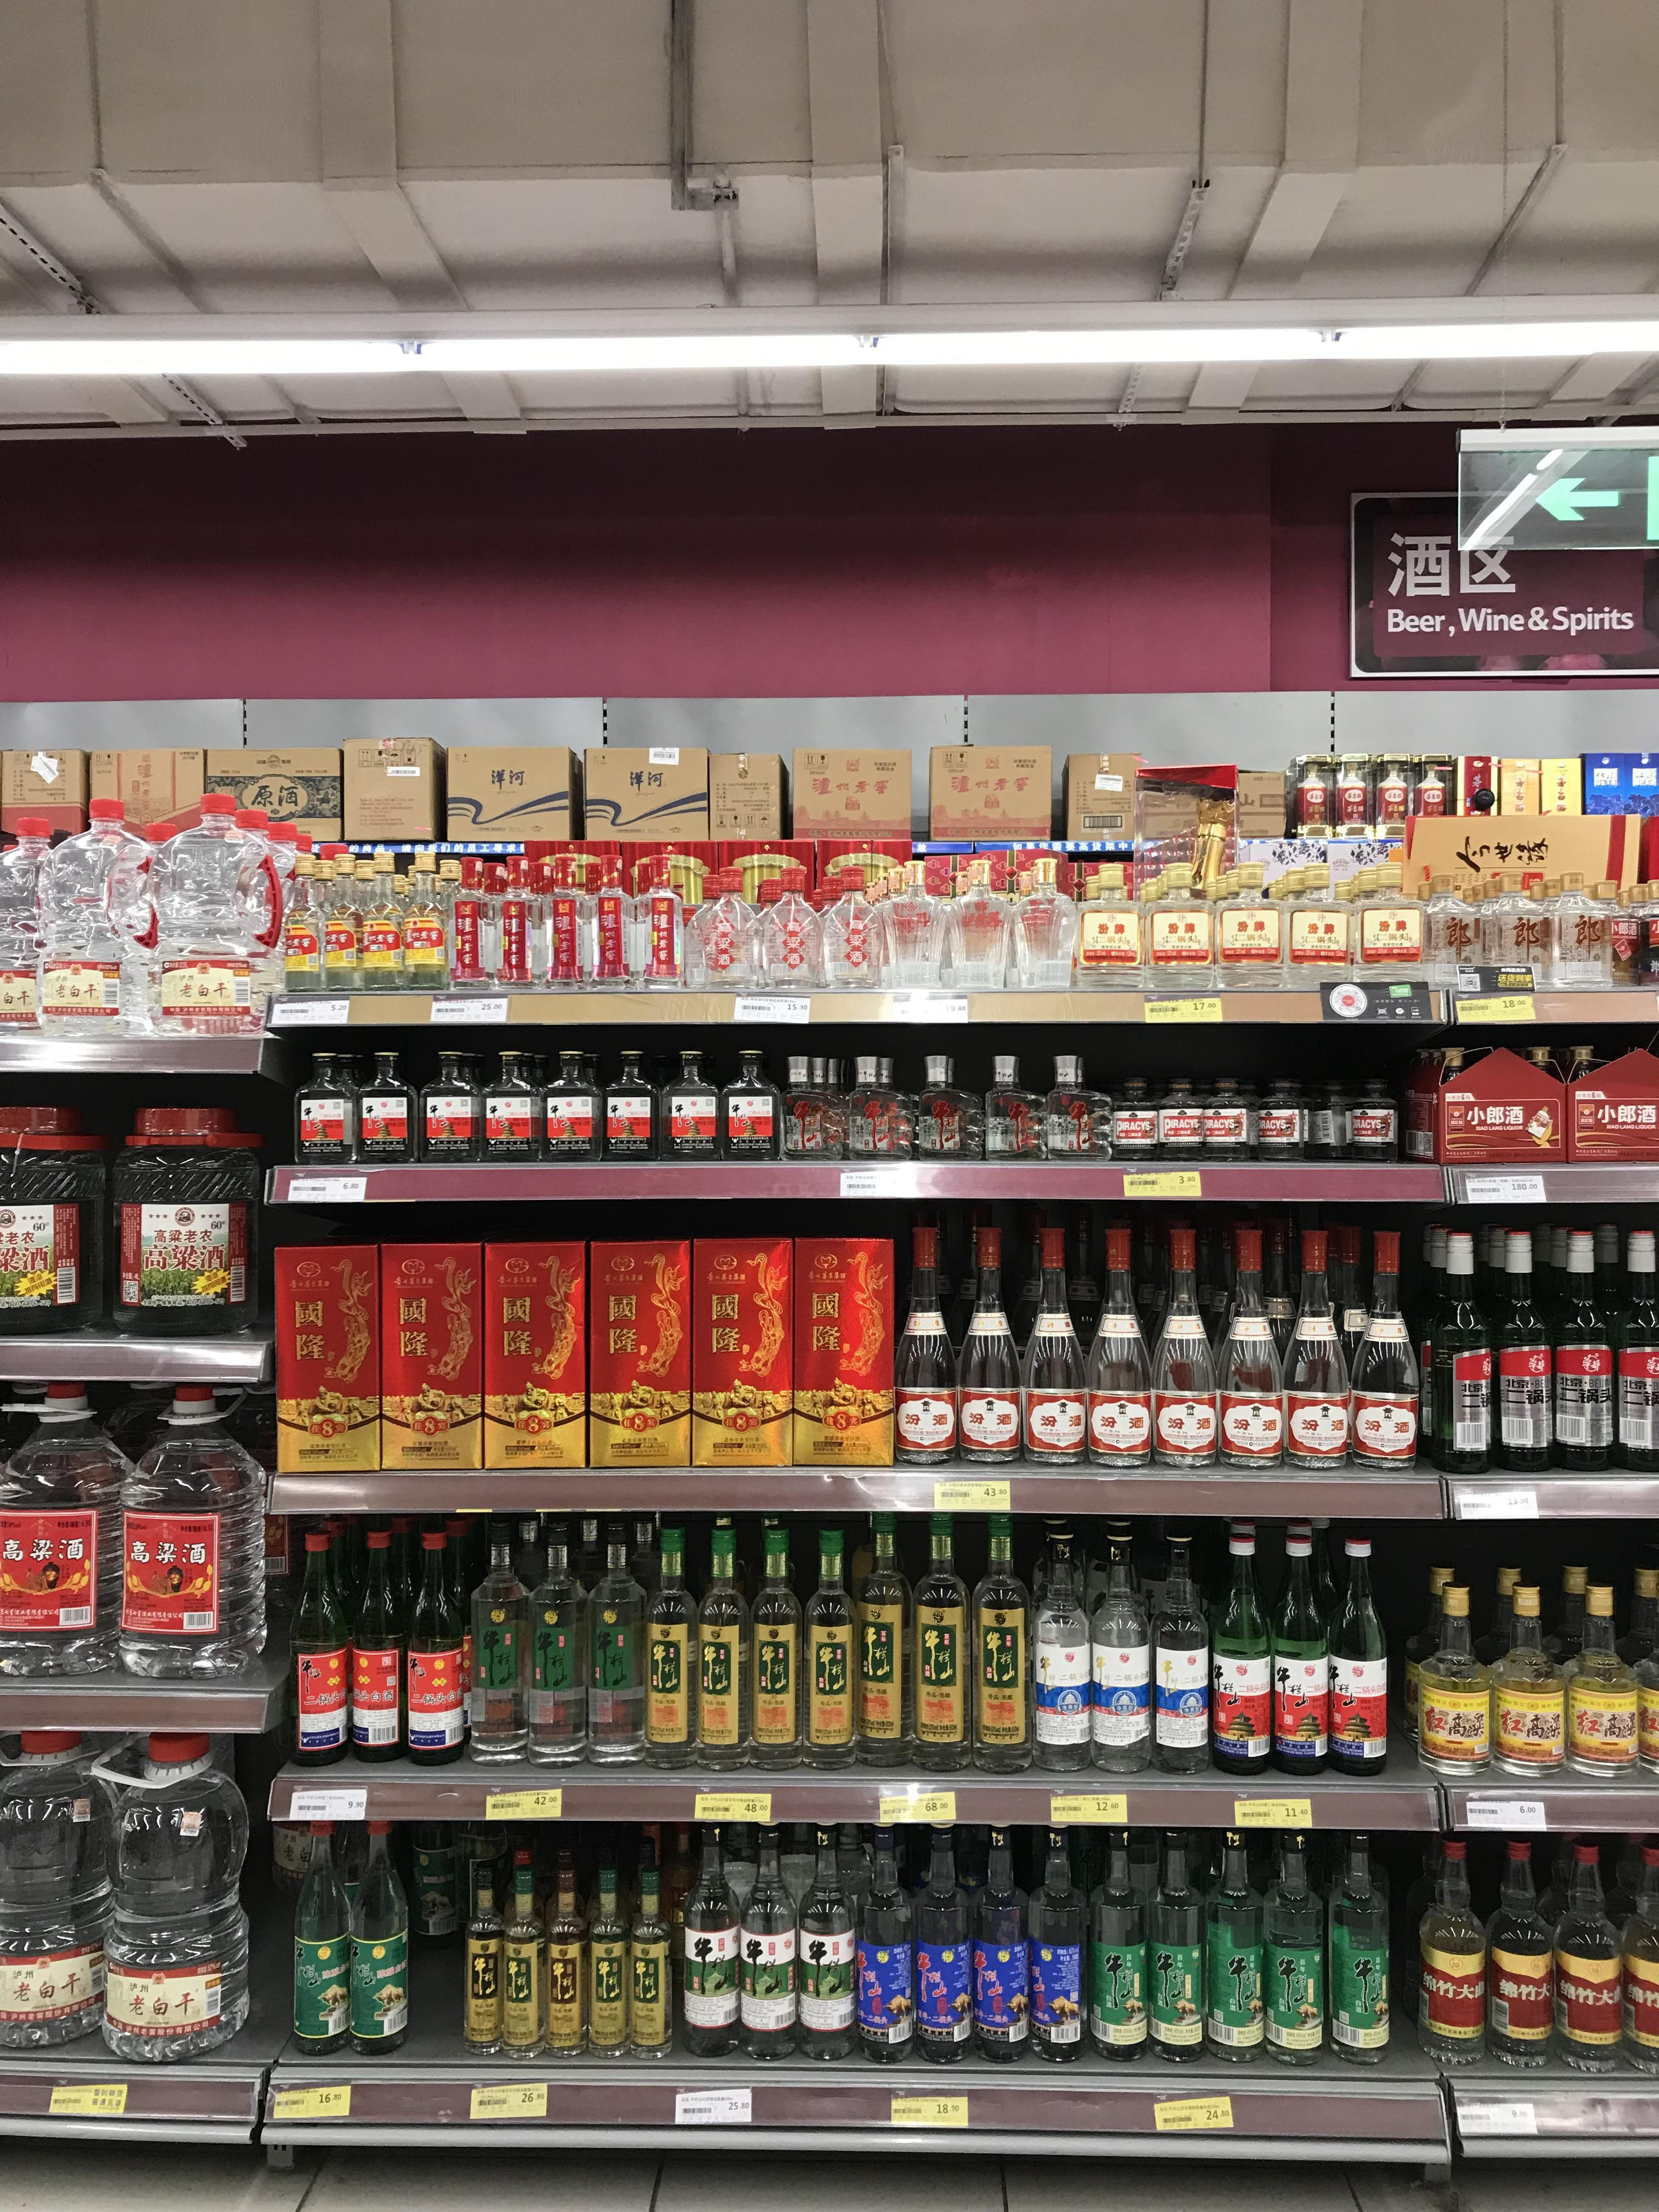bag: (143, 792, 254, 1017), (45, 796, 148, 1029), (2, 820, 77, 1026), (1466, 1029, 1560, 1160), (1588, 1031, 1654, 1153)
bottle: (99, 1730, 244, 2059), (117, 1383, 265, 1677), (2, 1381, 131, 1683), (0, 1726, 115, 2054), (295, 1813, 376, 2057), (1419, 1228, 1493, 1477), (1023, 1808, 1094, 2067), (331, 1817, 408, 2057), (906, 1818, 978, 2069), (1147, 1228, 1218, 1479), (1265, 1519, 1335, 1775), (1546, 1831, 1619, 2071), (1344, 1238, 1417, 1479), (908, 1514, 976, 1771), (969, 1512, 1035, 1773), (1277, 1231, 1347, 1479), (1080, 1230, 1150, 1477), (1323, 1829, 1394, 2067), (1208, 1524, 1276, 1775), (462, 1517, 532, 1761), (676, 1808, 742, 2064), (969, 1813, 1035, 2069), (1258, 1825, 1328, 2067), (1026, 1515, 1093, 1770), (1488, 1230, 1556, 1475), (519, 1521, 587, 1766), (1199, 1820, 1267, 2066), (1213, 1231, 1281, 1477), (845, 1521, 911, 1771), (795, 1810, 861, 2059), (284, 1517, 350, 1766), (1326, 1527, 1392, 1775), (854, 1818, 920, 2066), (343, 1519, 410, 1764), (953, 1226, 1019, 1472), (1084, 1820, 1150, 2064), (1087, 1527, 1154, 1771), (1415, 1829, 1485, 2060), (690, 1526, 755, 1775), (1547, 1231, 1614, 1474), (403, 1521, 467, 1768), (1019, 1233, 1086, 1474), (1486, 1831, 1554, 2064), (584, 1521, 648, 1766), (1150, 1531, 1213, 1773), (1140, 1829, 1204, 2064), (737, 1813, 798, 2060), (1563, 1581, 1638, 1780), (896, 1228, 957, 1470), (796, 1527, 856, 1775), (638, 1526, 697, 1771), (746, 1529, 805, 1773), (1488, 1580, 1560, 1782), (1413, 1575, 1483, 1777), (1605, 1233, 1657, 1468), (1358, 763, 1417, 961), (498, 1864, 552, 2066), (1281, 780, 1338, 967), (462, 1858, 514, 2059), (1333, 756, 1387, 949), (540, 1872, 592, 2064), (584, 1874, 636, 2062), (626, 1867, 676, 2060), (950, 859, 1012, 989), (1002, 852, 1058, 988), (1478, 874, 1544, 984), (887, 862, 943, 989), (1079, 862, 1136, 981), (847, 1062, 911, 1165), (1286, 759, 1330, 909), (1415, 876, 1480, 974), (1044, 1064, 1101, 1165), (350, 853, 392, 991), (791, 1059, 843, 1163), (979, 1066, 1033, 1167), (319, 853, 359, 989), (911, 1062, 964, 1165), (286, 855, 322, 988), (939, 1064, 986, 1167)
box: (270, 1221, 378, 1461), (378, 1230, 481, 1465), (791, 1235, 896, 1465), (481, 1235, 587, 1460), (586, 1235, 690, 1458), (687, 1235, 786, 1458), (429, 747, 584, 840), (915, 744, 1056, 840), (1535, 813, 1610, 981), (342, 733, 453, 843), (584, 745, 709, 843), (735, 845, 810, 988), (810, 843, 884, 988), (617, 836, 681, 988), (598, 836, 655, 991), (2, 744, 87, 841), (692, 852, 751, 988), (1354, 866, 1424, 967), (709, 752, 786, 840), (1581, 752, 1635, 841), (1622, 752, 1659, 843), (1457, 756, 1506, 822), (1413, 756, 1457, 826), (1537, 759, 1588, 819), (1500, 758, 1544, 819)
jar: (106, 1113, 251, 1332), (0, 1115, 99, 1332), (293, 1055, 366, 1167), (519, 841, 570, 996), (1141, 867, 1204, 981), (416, 1057, 481, 1163), (655, 1052, 718, 1160), (502, 846, 547, 995), (465, 846, 511, 995), (537, 1055, 599, 1162), (396, 852, 443, 993), (479, 1057, 544, 1160), (716, 1052, 777, 1160), (352, 1061, 413, 1165), (430, 850, 474, 995), (598, 1061, 659, 1160), (1249, 1076, 1310, 1160), (1230, 876, 1281, 975), (1340, 1078, 1399, 1160), (1194, 1080, 1253, 1160), (1298, 1080, 1349, 1160), (1152, 1085, 1201, 1162), (1122, 1089, 1173, 1160)
others: (1324, 467, 1656, 667), (786, 752, 920, 838)
